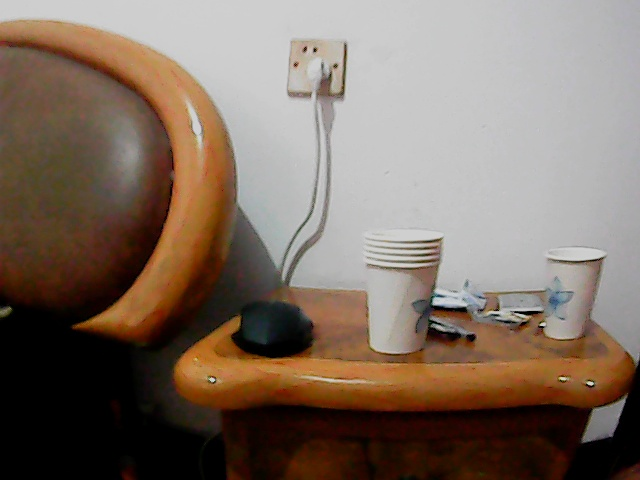cup: (362, 229, 441, 356)
mouse: (232, 299, 316, 359)
